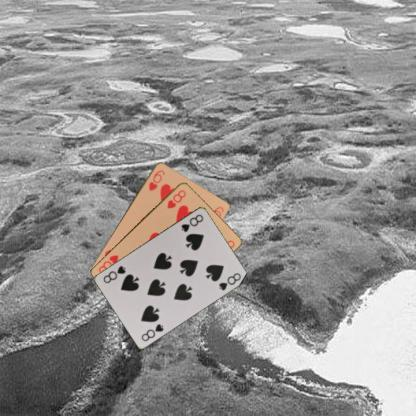6h: (146, 167, 166, 192)
8h: (165, 187, 187, 210)
8s: (178, 211, 204, 233), (138, 320, 164, 342)
